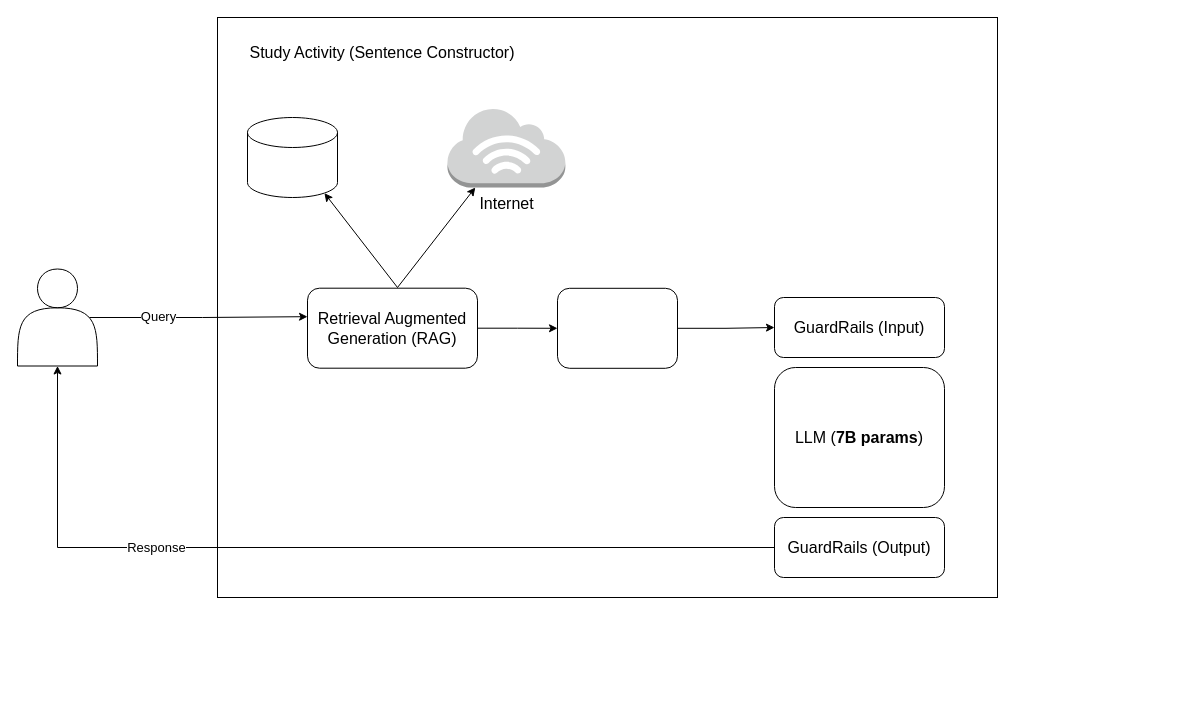
The diagram is 1195 pixels wide and 726 high, and some of its shapes have lost their labels. The box of each missing label's shape, as (x1, y1, x2, y2) in pixels:
Prompt Cache: (556, 287, 678, 368)
User: (16, 268, 98, 366)
Vector DB: (246, 116, 338, 198)
